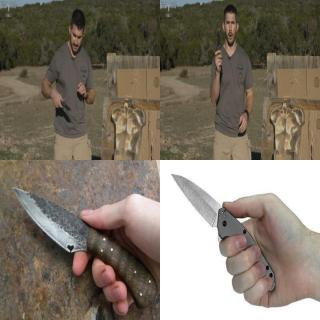knife: (7, 184, 131, 316), (170, 172, 276, 294), (51, 92, 71, 112), (213, 26, 222, 70)
